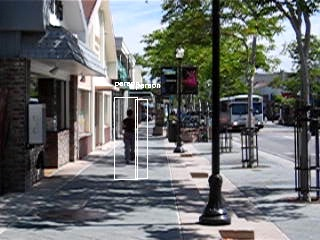person: (122, 108, 141, 165), (121, 108, 140, 165), (123, 108, 142, 165), (122, 107, 141, 164), (122, 109, 141, 166)
target_negative: (37, 114, 257, 187), (184, 5, 243, 225), (131, 77, 300, 94), (218, 95, 236, 145), (303, 159, 316, 195), (287, 89, 290, 218)
